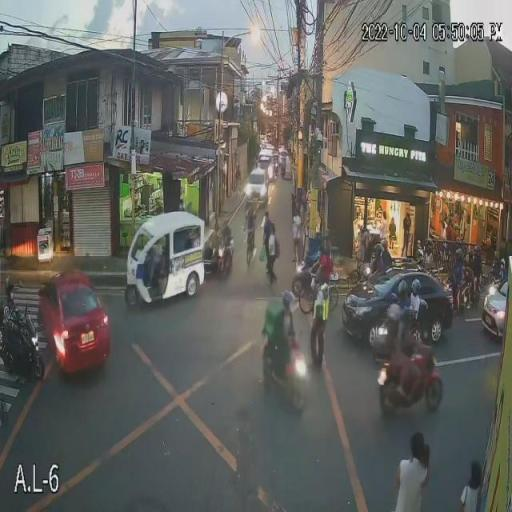helmet: (402, 309, 420, 330), (4, 276, 17, 302), (386, 303, 404, 321), (282, 290, 297, 311), (396, 281, 410, 298), (372, 243, 384, 259), (411, 280, 422, 296), (456, 248, 464, 263)
motorcycle: (377, 332, 443, 411), (261, 337, 309, 412), (0, 309, 48, 380), (378, 304, 427, 354), (444, 278, 474, 312)
rider: (383, 320, 410, 400), (405, 331, 434, 402), (3, 304, 29, 371), (274, 306, 294, 381), (453, 262, 464, 312), (409, 293, 421, 322)
